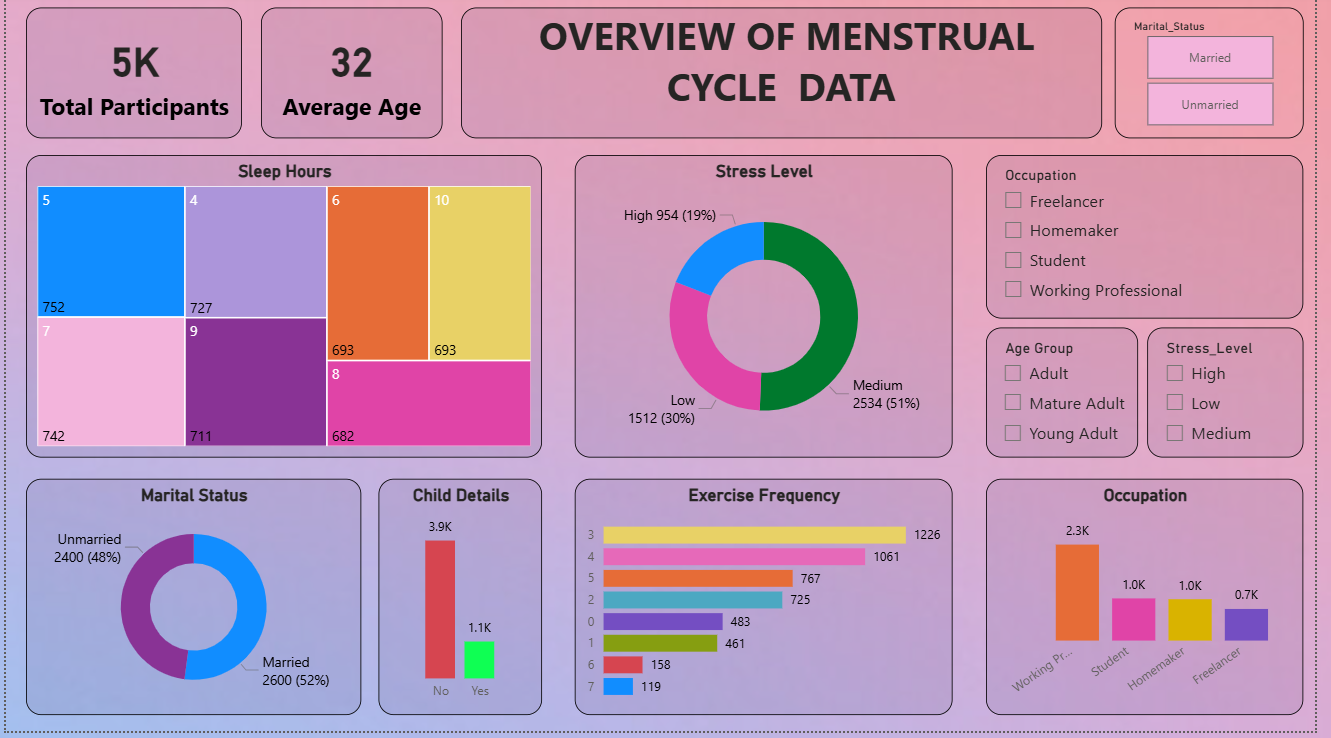

The page's visual inventory and layout, read from the dashboard file:
{"tool":"powerbi","page":{"name":"Page 1","canvas":[1280,720],"ordinal":0},"visuals":[{"type":"donutChart","title":"Marital Status","fields":{"Category":["demographics_lifestyle.Marital_Status"],"Y":["demographics_lifestyle.Participant_ID"]},"box":[19.6,473.2,327.7,231.1],"z":0},{"type":"card","title":"Total Participants","fields":{"Values":["demographics_lifestyle.Participant_ID"]},"box":[19.6,12.2,211.6,128.4],"z":1000},{"type":"card","title":"Total Participants","fields":{"Values":["demographics_lifestyle.Age"]},"box":[249.5,12.2,177.3,128.4],"z":2000},{"type":"columnChart","title":"Child Details","fields":{"Category":["demographics_lifestyle.Has_Child"],"Y":["demographics_lifestyle.Marital_Status"]},"box":[364.4,473.2,160.2,231.1],"z":3000},{"type":"columnChart","title":"Occupation","fields":{"Category":["demographics_lifestyle.Occupation"],"Y":["demographics_lifestyle.Occupation"]},"box":[958.7,473.2,310.6,231.1],"z":4000},{"type":"donutChart","title":"Stress Level","fields":{"Y":["demographics_lifestyle.Participant_ID"],"Category":["demographics_lifestyle.Stress_Level"]},"box":[556.4,156.5,369.3,295.9],"z":5000},{"type":"barChart","title":" Exercise Frequency","fields":{"Y":["demographics_lifestyle.Participant_ID"],"Category":["demographics_lifestyle.Exercise_Frequency"]},"box":[556.4,473.2,369.3,231.1],"z":6000},{"type":"treemap","title":"Sleep Hours","fields":{"Group":["demographics_lifestyle.Sleep_Hours"],"Values":["demographics_lifestyle.Participant_ID"]},"box":[19.6,156.5,505,295.9],"z":7000},{"type":"slicer","fields":{"Values":["demographics_lifestyle.Marital_Status"]},"box":[1084.7,12.2,184.6,128.4],"z":8000},{"type":"slicer","fields":{"Values":["demographics_lifestyle.Occupation"]},"box":[958.7,156.5,310.6,160.2],"z":9000},{"type":"slicer","fields":{"Values":["demographics_lifestyle.Age Group"]},"box":[958.7,325.3,149.2,127.2],"z":10000},{"type":"slicer","fields":{"Values":["demographics_lifestyle.Stress_Level"]},"box":[1116.4,325.3,152.9,127.2],"z":11000},{"type":"textbox","box":[445.1,12.2,627.3,128.4],"z":12000}]}

Visuals, with their boxes in screenshot pixels (x1, y1, x2, y2), scaled from the page's 1280x720 canvas onto the 1331x738 screenshot:
"Marital Status" donutChart: <bbox>20, 485, 361, 722</bbox>
"Total Participants" card: <bbox>20, 13, 240, 144</bbox>
"Total Participants" card: <bbox>259, 13, 444, 144</bbox>
"Child Details" columnChart: <bbox>379, 485, 546, 722</bbox>
"Occupation" columnChart: <bbox>997, 485, 1320, 722</bbox>
"Stress Level" donutChart: <bbox>579, 160, 963, 464</bbox>
" Exercise Frequency" barChart: <bbox>579, 485, 963, 722</bbox>
"Sleep Hours" treemap: <bbox>20, 160, 546, 464</bbox>
slicer - demographics_lifestyle.Marital_Status: <bbox>1128, 13, 1320, 144</bbox>
slicer - demographics_lifestyle.Occupation: <bbox>997, 160, 1320, 325</bbox>
slicer - demographics_lifestyle.Age Group: <bbox>997, 333, 1152, 464</bbox>
slicer - demographics_lifestyle.Stress_Level: <bbox>1161, 333, 1320, 464</bbox>
textbox: <bbox>463, 13, 1115, 144</bbox>
